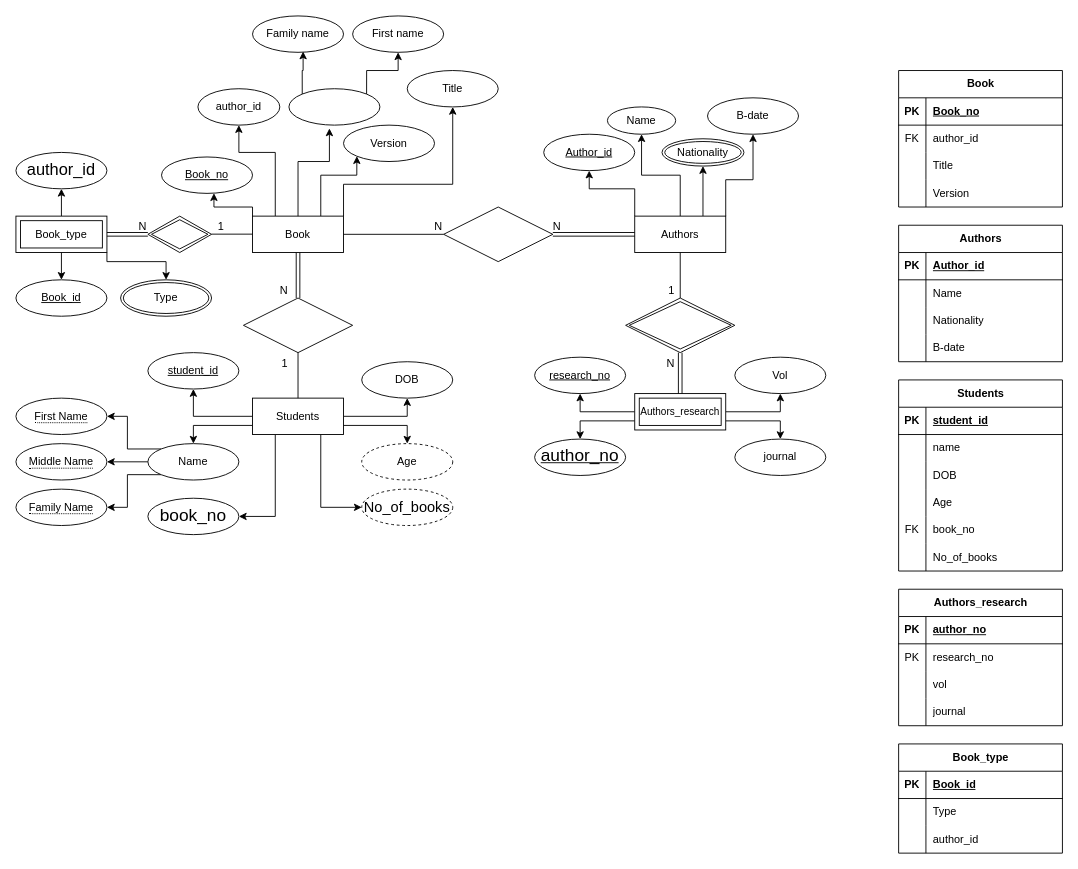
Some shapes in this 1078 by 869 pixel diagram are drawn without their labels. Here are the shapes that lost their labels. From the top down, the box of each, then its label:
(288, 88, 380, 125): Author name
(147, 215, 212, 253): has
(443, 206, 553, 262): Belongs to
(243, 297, 353, 353): Borrow
(625, 297, 735, 353): have
